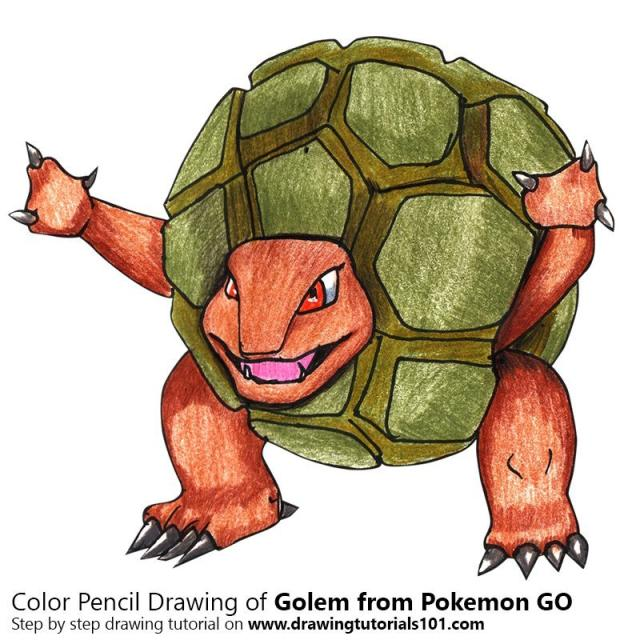Golem: (10, 35, 604, 558)
